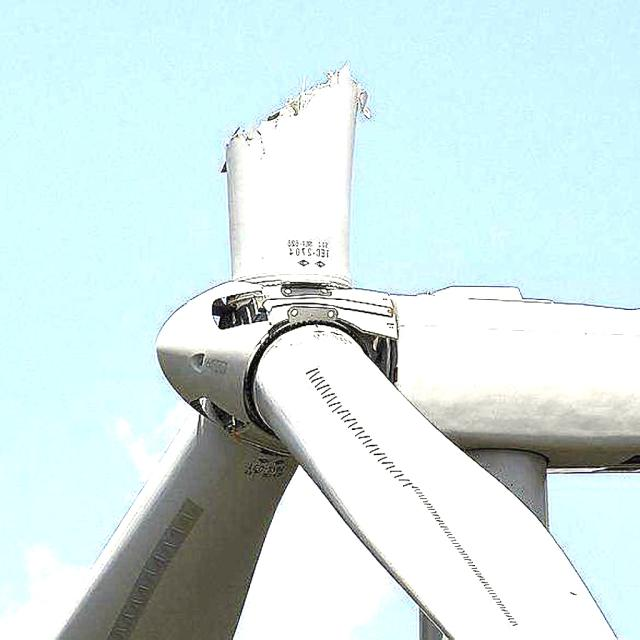crack: (198, 9, 402, 253)
